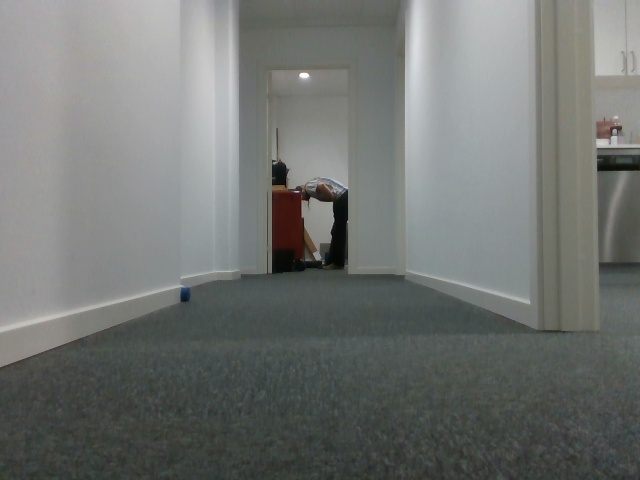alfa: (178, 285, 192, 305)
